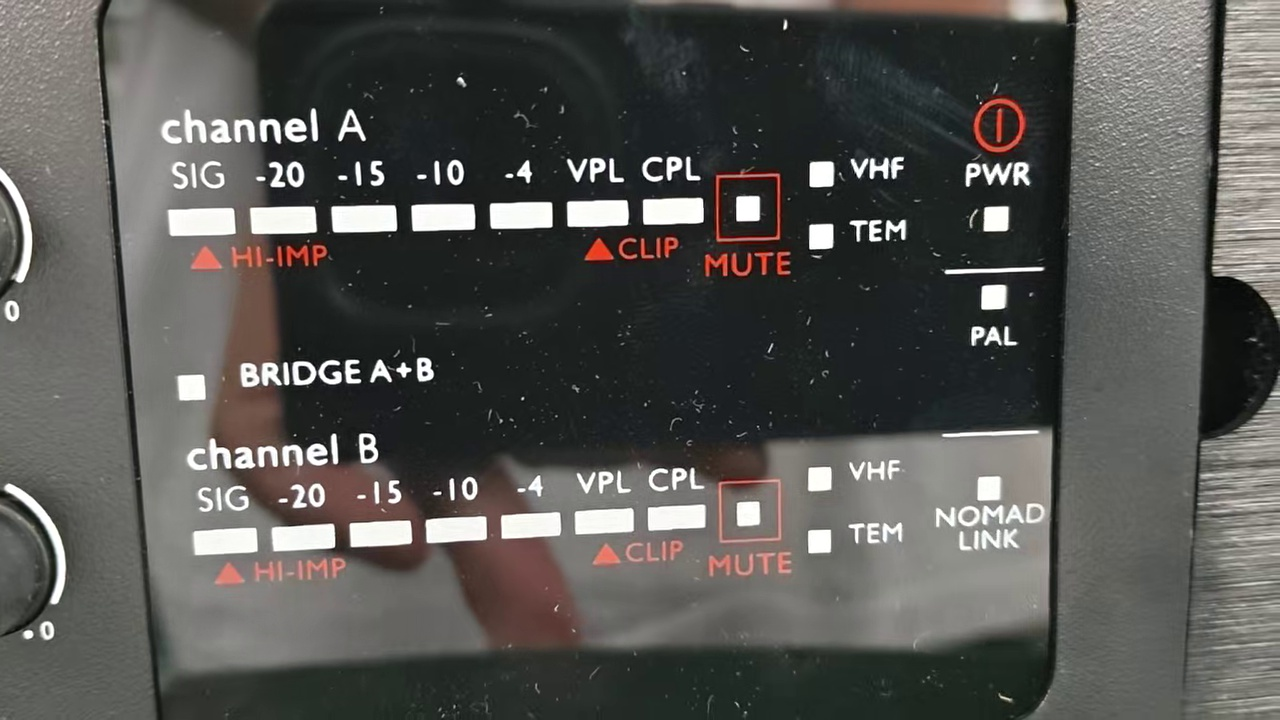FP_CPL: (635, 148, 710, 240), (637, 461, 709, 547)
FP_PWR: (951, 155, 1042, 241)
FP_PWR_area: (943, 92, 1046, 268)
FP_SIG_area: (175, 441, 910, 591), (167, 149, 917, 278)
FP_VPL: (561, 148, 635, 236), (570, 465, 639, 546)
